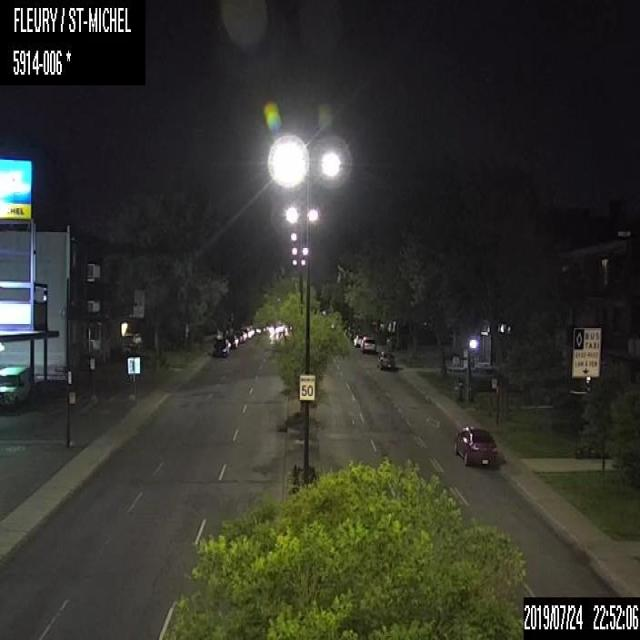vehicle: (452, 423, 495, 465), (0, 362, 29, 408), (214, 338, 230, 357), (360, 334, 376, 353), (378, 351, 394, 369), (352, 332, 364, 347), (227, 333, 238, 348)
